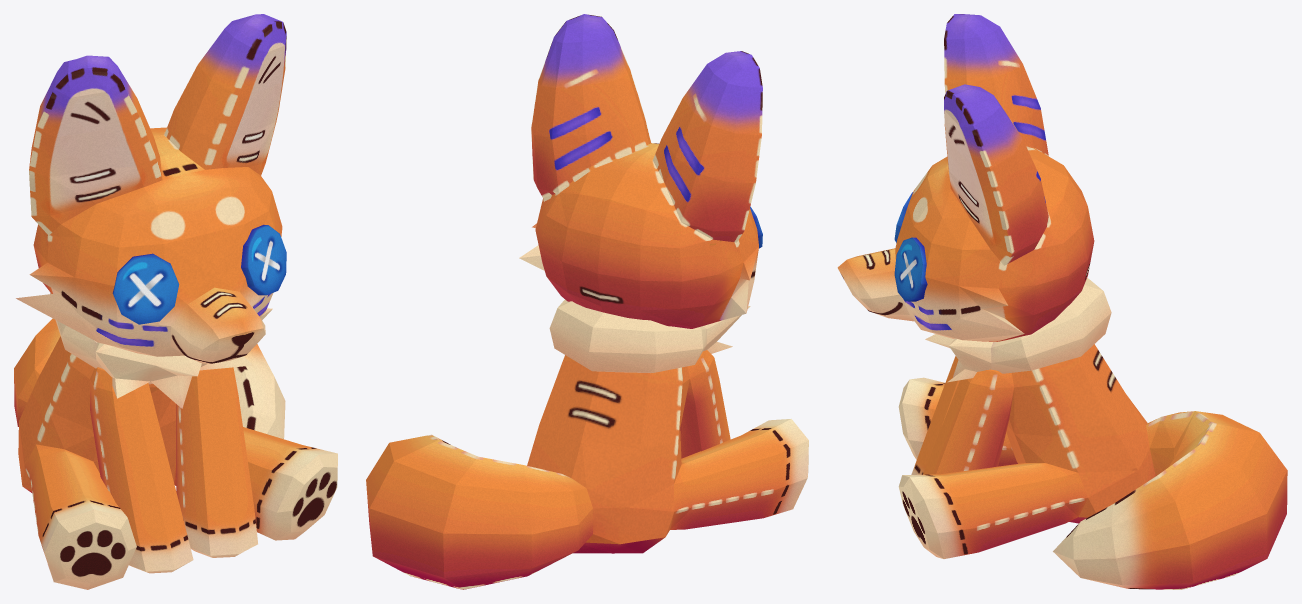
Rendered from file_doll.glb.
3 renders of one model, left to right at view 1: azimuth 30°, elevation 25°; view 2: azimuth 150°, elevation 25°; view 3: azimuth 270°, elevation 25°, orthographic. The views are drawn at different scales.
Parts seen in each view (by area): view 1: doll; view 2: doll; view 3: doll.
Boxes of the visible parts, bbox=[...] form: doll: bbox=[14, 14, 337, 589]; doll: bbox=[366, 14, 808, 589]; doll: bbox=[837, 14, 1287, 589].
Bounding box in the file's own units: 0.8873 × 1.26 × 1.11.
1 material, 1 textured.
